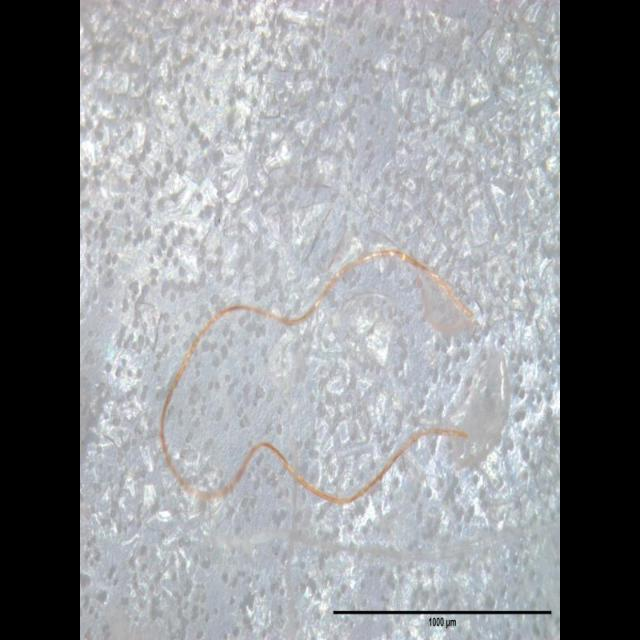Fibre: (158, 245, 480, 509)
